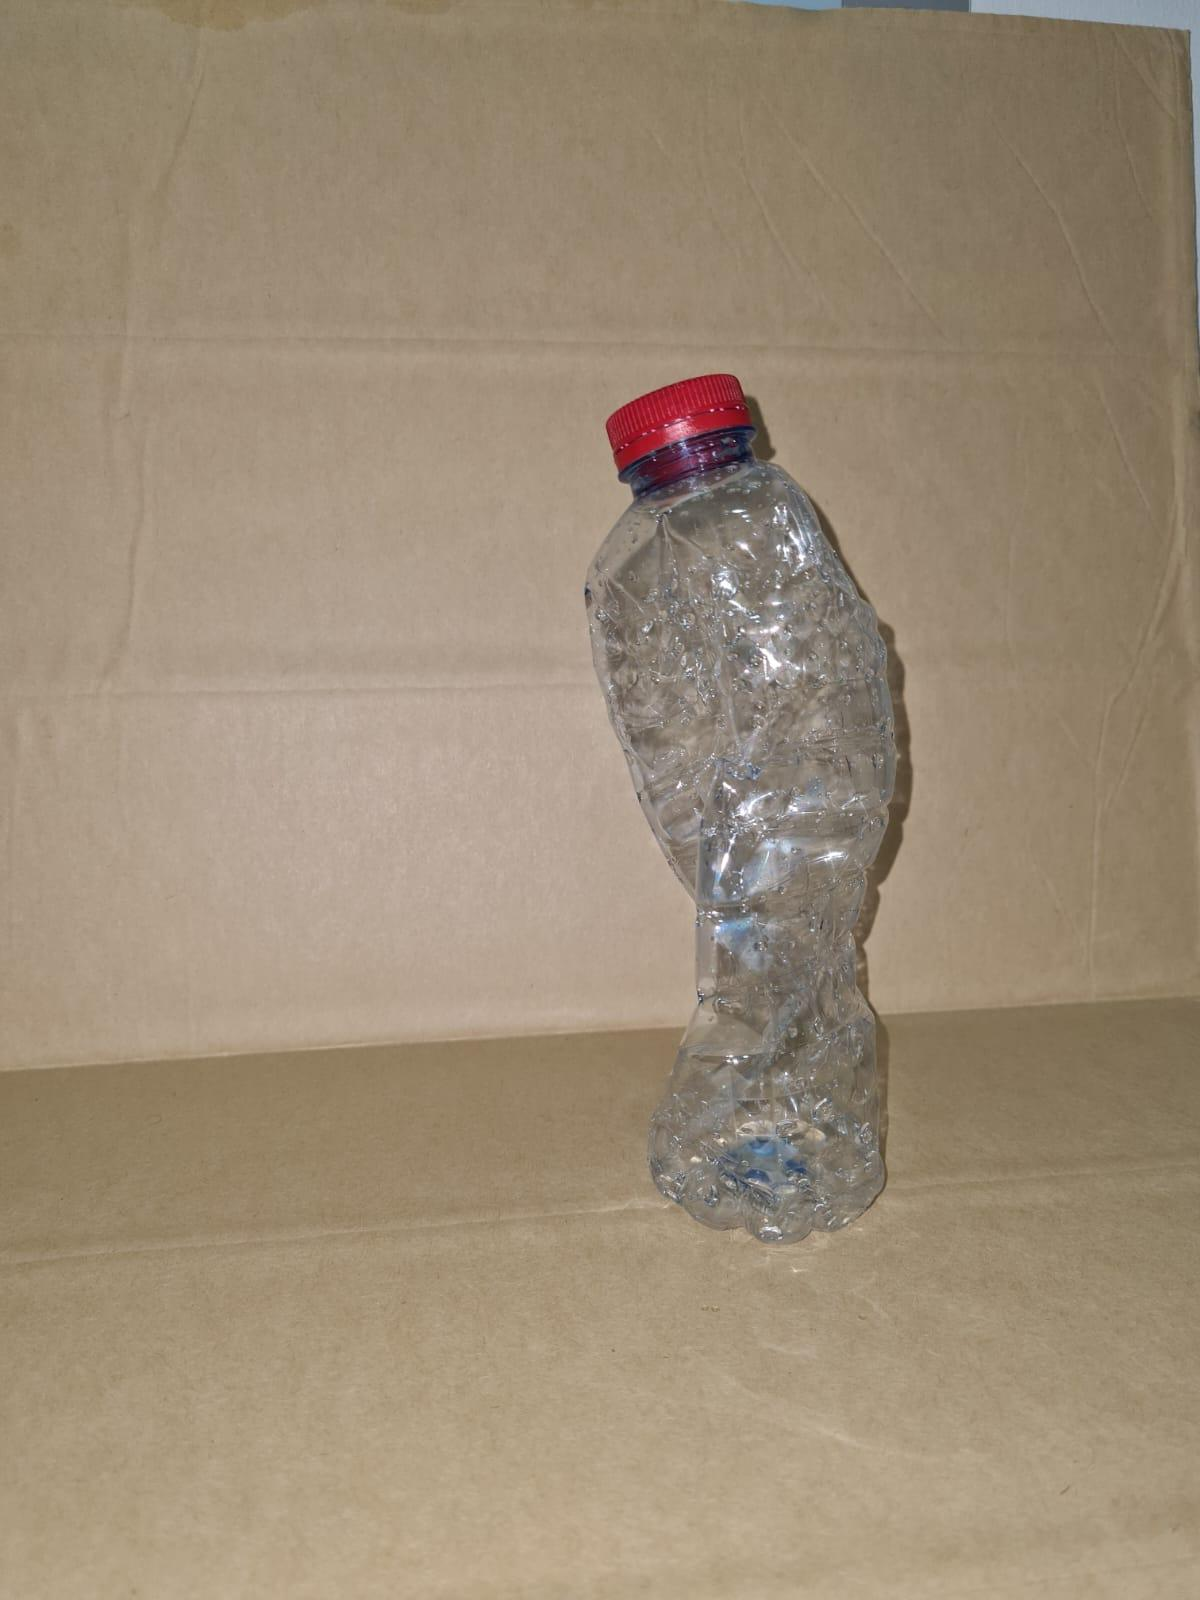bottle: (568, 354, 920, 1231)
